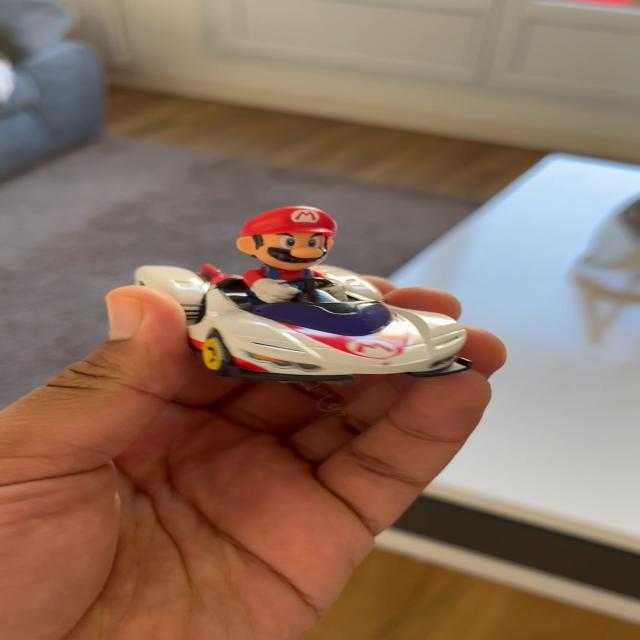mario: (116, 200, 492, 388)
